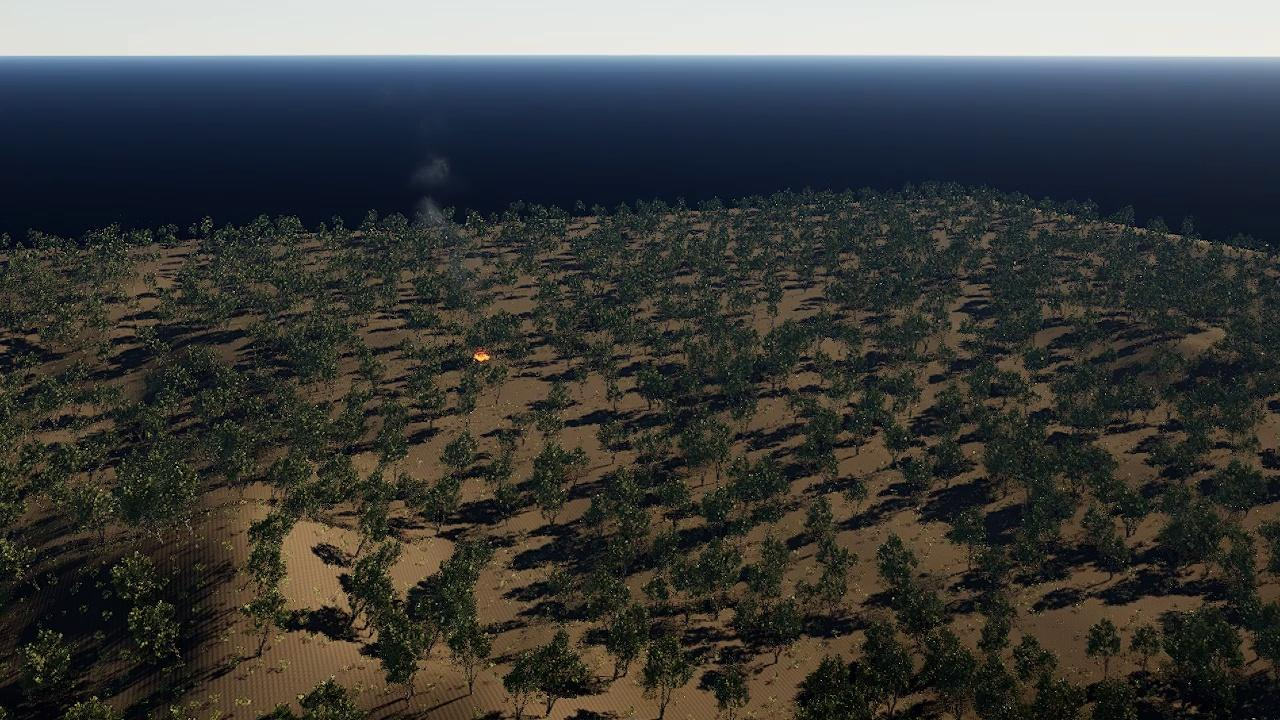fire: (475, 352, 491, 362)
smoke: (401, 110, 472, 297)
